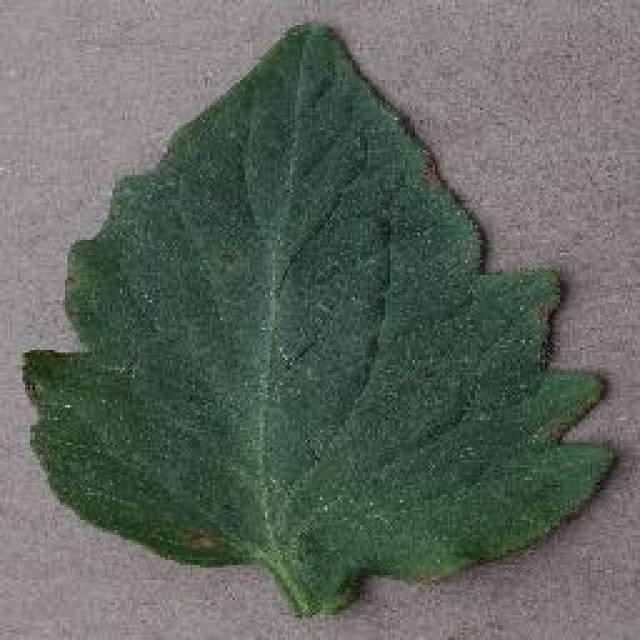bacterial spot: (18, 24, 625, 615)
